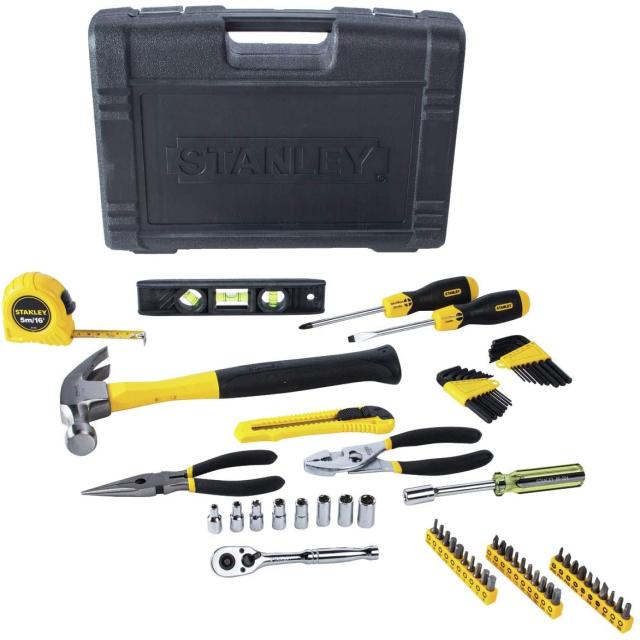Screwdriver: (349, 290, 530, 342), (299, 276, 479, 328), (402, 464, 585, 506)
